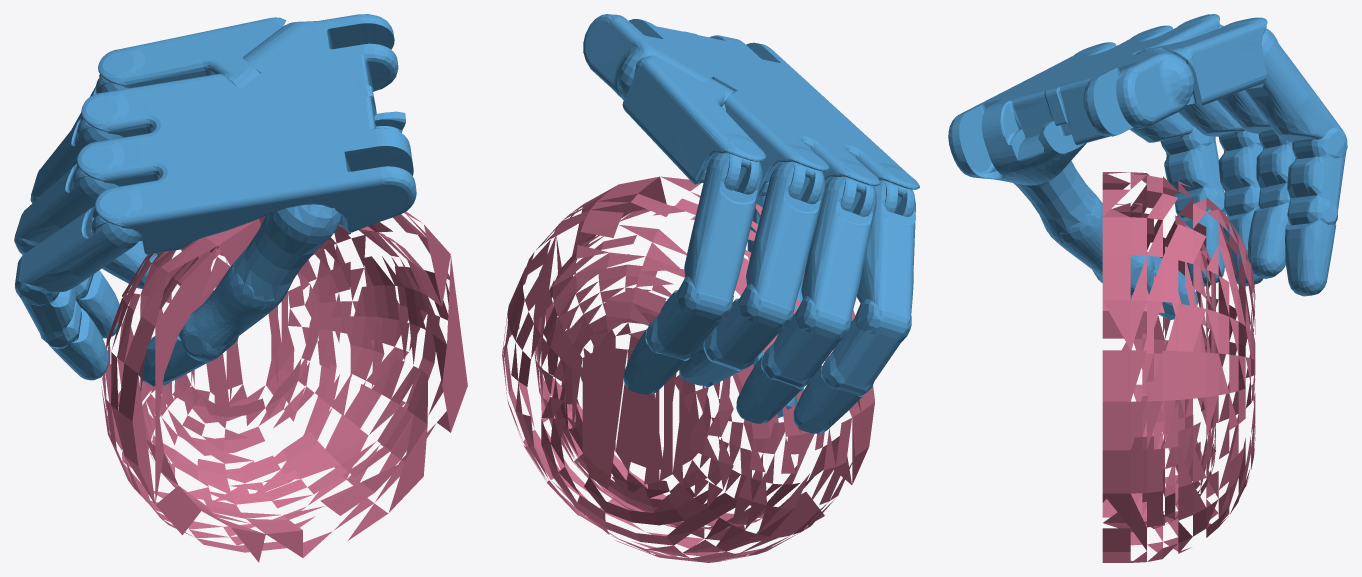
3 renders of one model, left to right at view 1: azimuth 30°, elevation 25°; view 2: azimuth 150°, elevation 25°; view 3: azimuth 270°, elevation 25°, orthographic.
Parts seen in each view (by area): view 1: 5; view 2: 5; view 3: 5.
Part boxes in pixels (x1,y1,x2,y2): 5: (14,14,467,562); 5: (502,14,919,562); 5: (948,14,1347,562).
Size of the model in its own units: 0.1702 by 0.2011 by 0.142.
